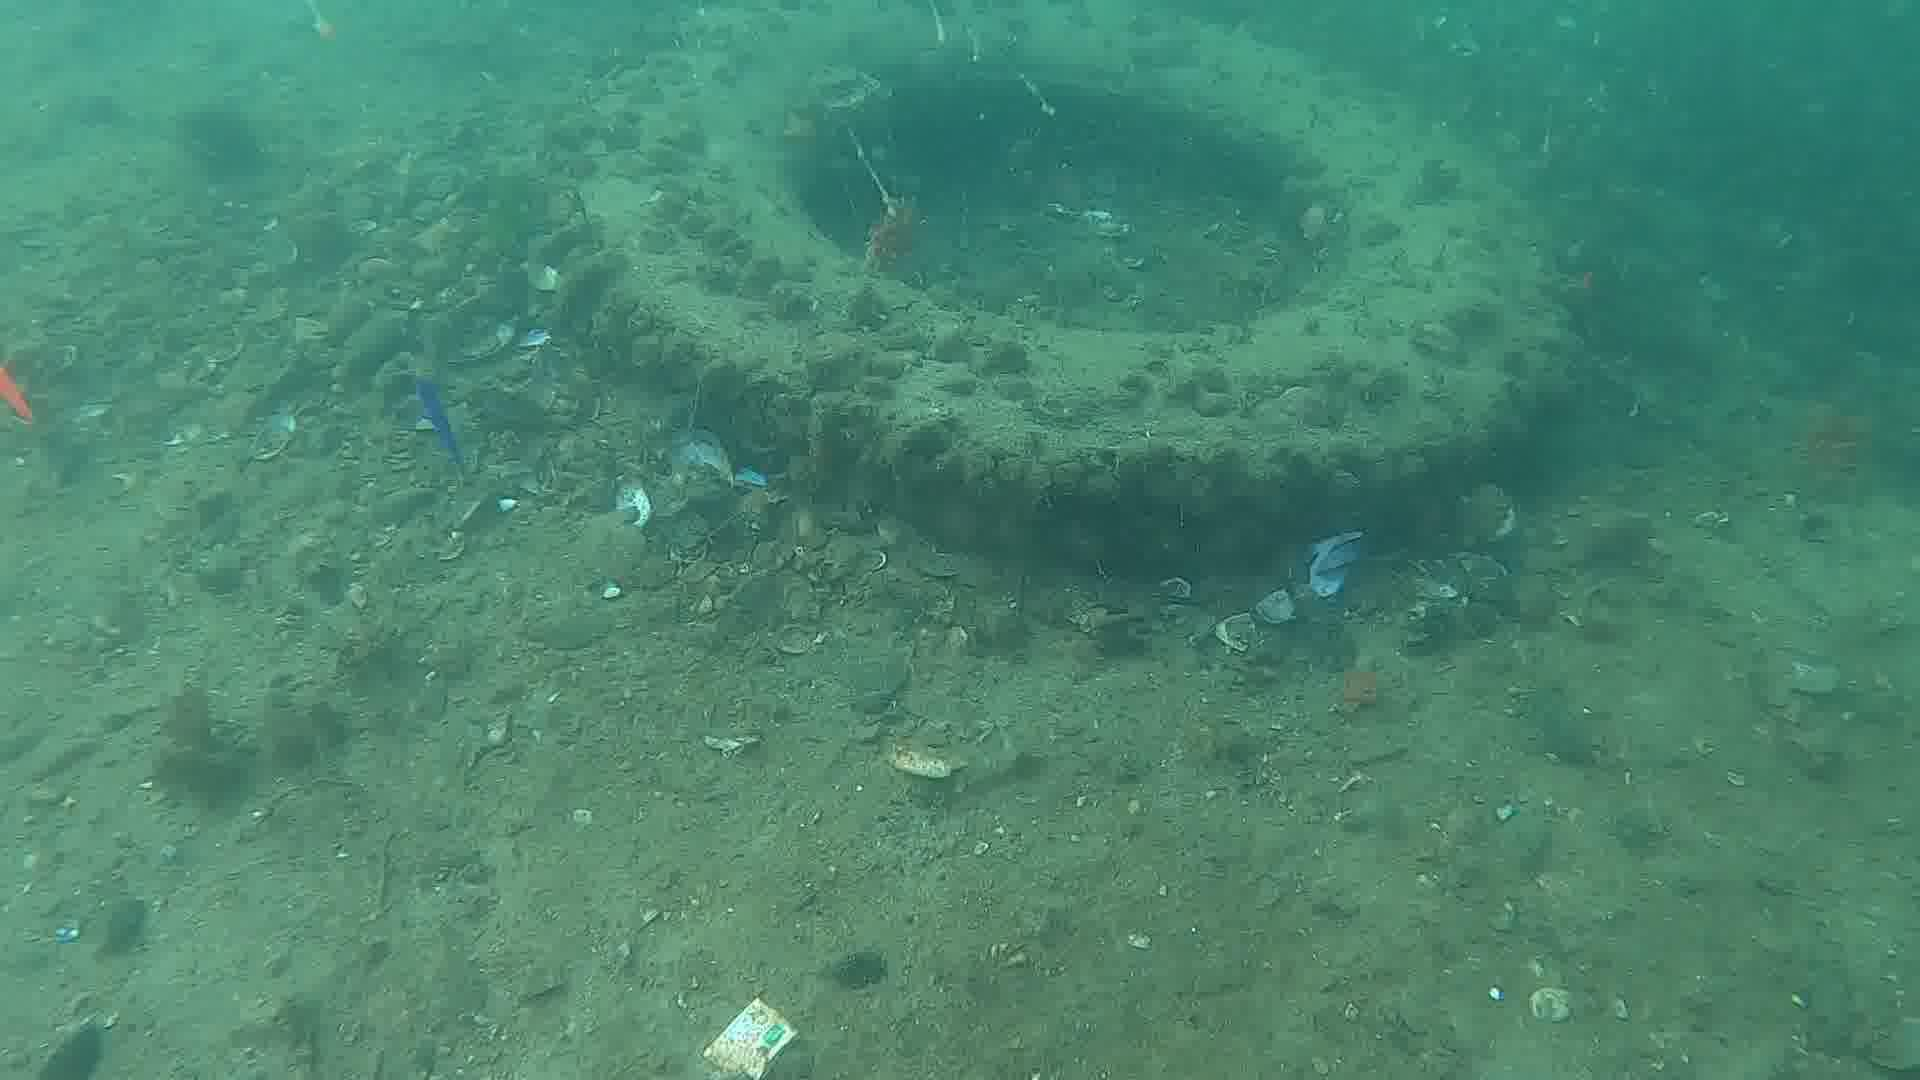tire: (537, 3, 1600, 578)
